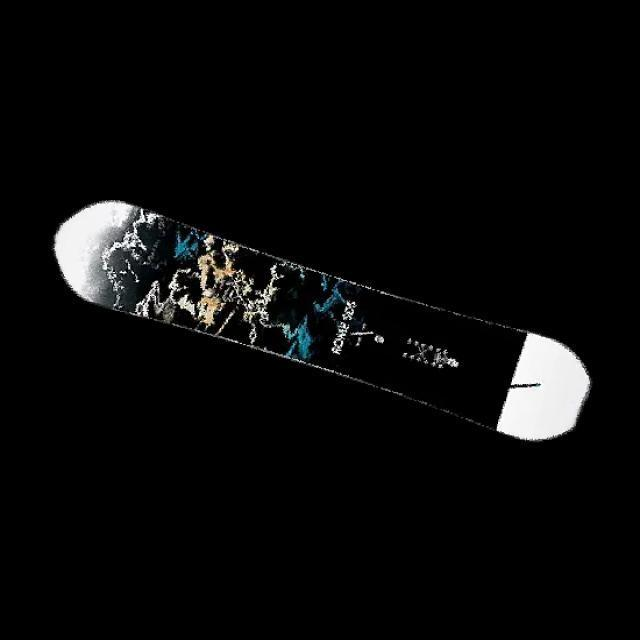Snowboard: (52, 198, 591, 443)
